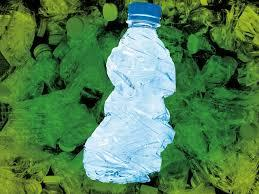plastic: (82, 0, 179, 186)
